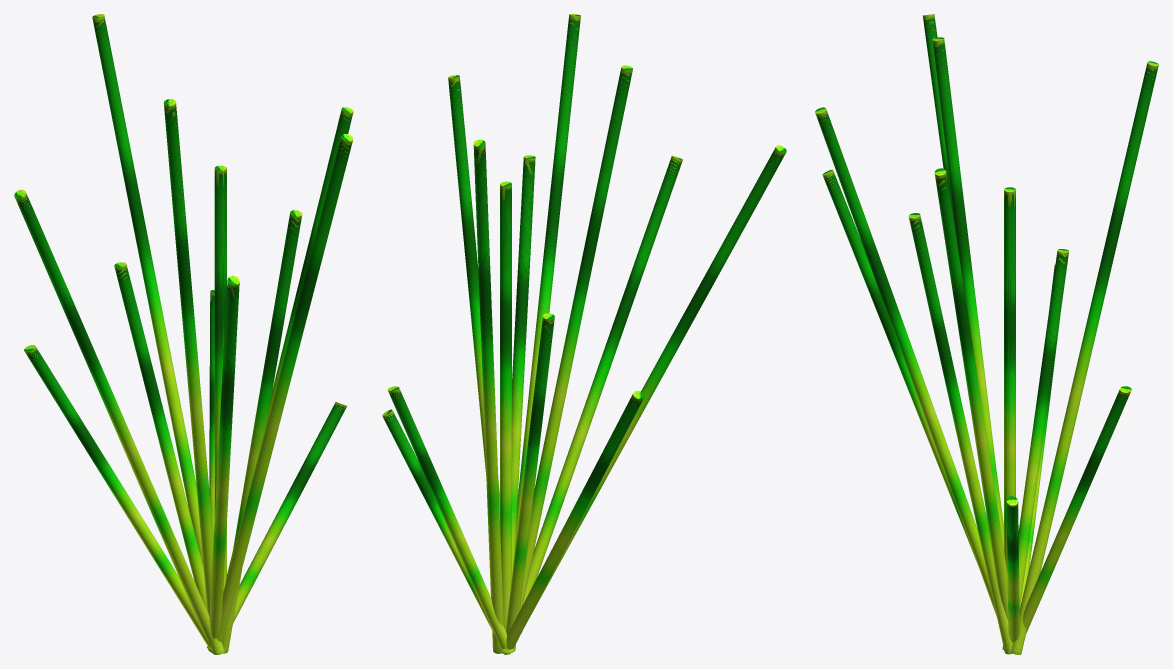
The model's file is inlandsedgeseedling.dae.
3 renders of one model, left to right at view 1: azimuth 30°, elevation 25°; view 2: azimuth 150°, elevation 25°; view 3: azimuth 270°, elevation 25°, orthographic. The views are drawn at different scales.
Visible parts, largest first — view 1: Cylinder; view 2: Cylinder; view 3: Cylinder.
Boxes of the visible parts, x1,y1,x2,y2 form: Cylinder: (14, 14, 353, 654); Cylinder: (382, 14, 786, 654); Cylinder: (815, 14, 1158, 654).
Size of the model in its own units: 3.37 by 2.81 by 5.16.
Materials: 1 (1 with a texture image).
